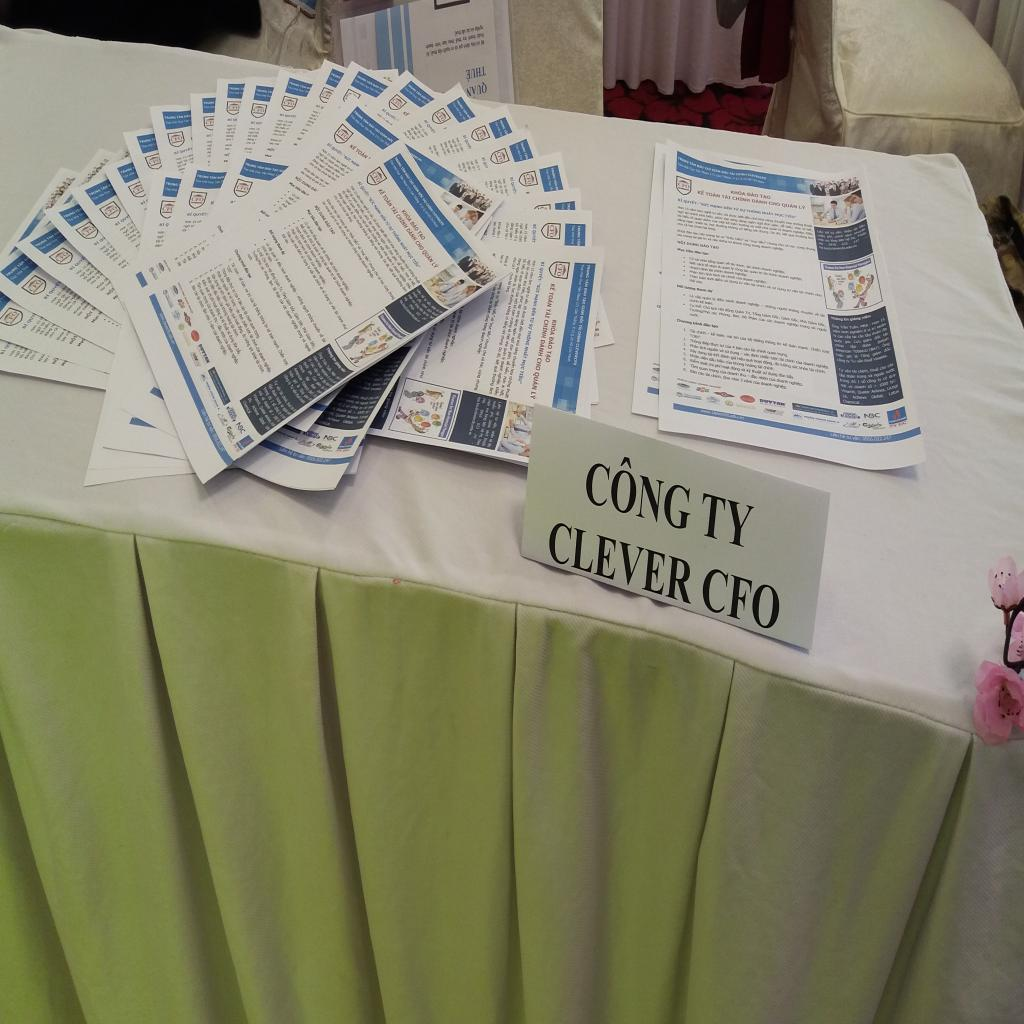text: (544, 505, 693, 610), (584, 440, 693, 539), (700, 558, 784, 638), (698, 483, 757, 554), (698, 406, 746, 422), (465, 80, 489, 102), (463, 64, 488, 84), (197, 342, 211, 365), (758, 396, 786, 407), (4, 308, 19, 326), (396, 213, 410, 230), (421, 247, 435, 264), (28, 278, 42, 294), (54, 250, 70, 264), (235, 418, 247, 436), (401, 206, 413, 223), (382, 192, 394, 209), (406, 225, 418, 242), (540, 319, 550, 339), (531, 371, 541, 391), (863, 410, 883, 420), (82, 225, 96, 238), (104, 204, 118, 217), (330, 145, 344, 158), (538, 339, 547, 358), (732, 195, 751, 204), (550, 318, 559, 336), (546, 291, 555, 309), (337, 128, 349, 141), (534, 357, 544, 372), (731, 187, 746, 197), (385, 110, 397, 122), (704, 190, 720, 199), (148, 156, 161, 167), (410, 219, 421, 232), (392, 230, 402, 244), (412, 256, 422, 270), (544, 350, 554, 364), (751, 198, 768, 206), (426, 123, 437, 135), (372, 204, 383, 216), (360, 186, 370, 199), (390, 204, 400, 217), (414, 239, 424, 252), (537, 267, 545, 283), (682, 198, 698, 206), (746, 207, 762, 215), (782, 202, 798, 210), (236, 184, 250, 193), (547, 336, 556, 350), (392, 97, 402, 109), (556, 263, 564, 278), (436, 110, 446, 122), (399, 240, 409, 252), (416, 230, 426, 242), (525, 330, 532, 347), (372, 171, 381, 184), (180, 146, 193, 155), (510, 182, 519, 195), (228, 407, 237, 420), (282, 99, 296, 107), (284, 112, 298, 120), (517, 370, 525, 384), (843, 411, 857, 419), (476, 128, 485, 140), (678, 181, 690, 190), (529, 390, 538, 402), (532, 294, 540, 307), (544, 307, 552, 320), (463, 140, 473, 150), (377, 186, 387, 196), (190, 196, 204, 203), (170, 135, 184, 142), (523, 346, 530, 360), (496, 152, 504, 164), (762, 209, 774, 217), (747, 190, 759, 198), (760, 192, 772, 200), (525, 173, 532, 186), (535, 282, 542, 295), (520, 358, 527, 371), (549, 224, 555, 239), (193, 212, 208, 218), (343, 153, 352, 163), (431, 260, 440, 270), (368, 195, 376, 206), (549, 282, 557, 293), (532, 230, 538, 244), (785, 213, 797, 220), (768, 200, 780, 207), (68, 263, 76, 273), (98, 234, 106, 244), (699, 200, 709, 208), (380, 213, 388, 223), (406, 250, 414, 260), (798, 203, 806, 213), (710, 203, 723, 209), (43, 292, 50, 302), (93, 238, 100, 248), (723, 204, 733, 211), (721, 193, 731, 200), (774, 212, 785, 218), (252, 108, 265, 113), (326, 141, 334, 149), (387, 225, 395, 233), (697, 188, 705, 196), (21, 321, 28, 330), (114, 219, 121, 228), (228, 105, 240, 110), (140, 198, 146, 208), (531, 307, 537, 317), (357, 179, 364, 187), (529, 316, 536, 324), (527, 323, 534, 331), (483, 161, 489, 170), (384, 220, 391, 227), (0, 348, 6, 355), (206, 132, 212, 139), (315, 102, 321, 109), (381, 107, 387, 114), (424, 118, 430, 125), (481, 155, 487, 162), (733, 205, 739, 212), (159, 221, 165, 227), (187, 211, 193, 217), (250, 119, 256, 125), (279, 112, 285, 118), (462, 134, 468, 140), (532, 224, 538, 230), (540, 261, 546, 267), (740, 207, 746, 213), (165, 222, 170, 229), (174, 150, 179, 156), (510, 176, 515, 182), (320, 104, 325, 110), (678, 196, 682, 203), (228, 116, 232, 122)
